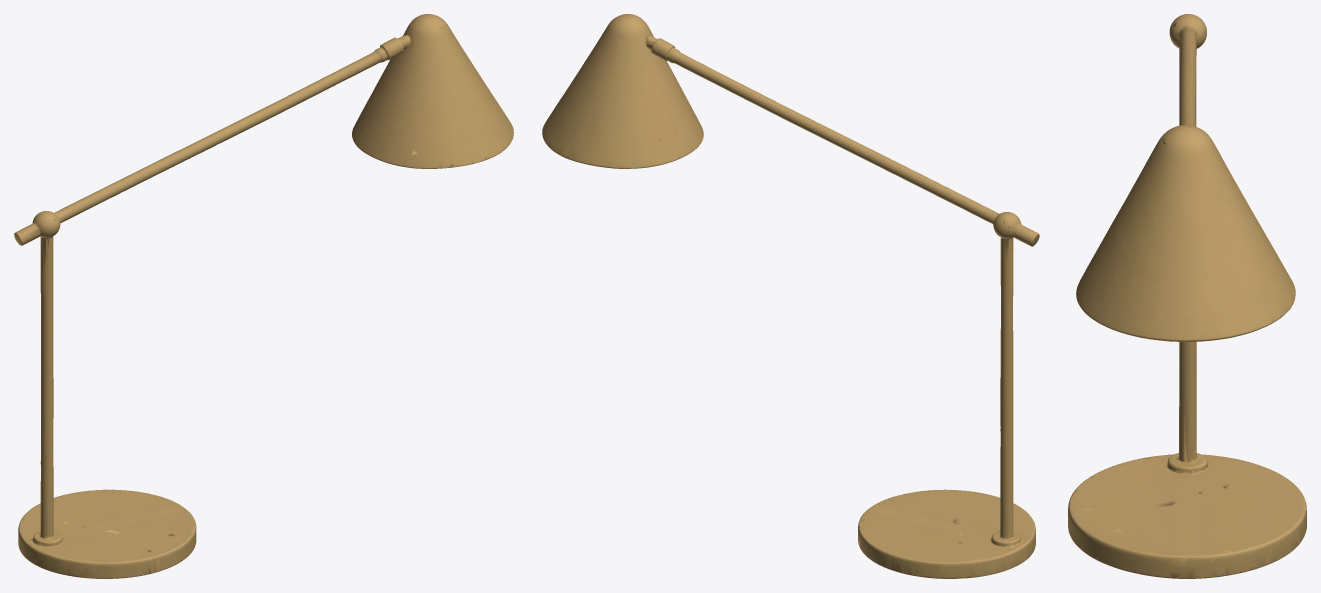
File: lamp.glb
3 renders of one model, left to right at view 1: azimuth 30°, elevation 25°; view 2: azimuth 150°, elevation 25°; view 3: azimuth 270°, elevation 25°, orthographic. The views are drawn at different scales.
Parts seen in each view (by area): view 1: node_0; view 2: node_0; view 3: node_0.
Boxes of the visible parts, x1,y1,x2,y2 form: node_0: (14,14,513,578); node_0: (542,14,1039,578); node_0: (1068,14,1306,578).
Size of the model in its own units: 0.9291 by 0.8188 by 0.2889.
Materials: 1 (1 with a texture image).
